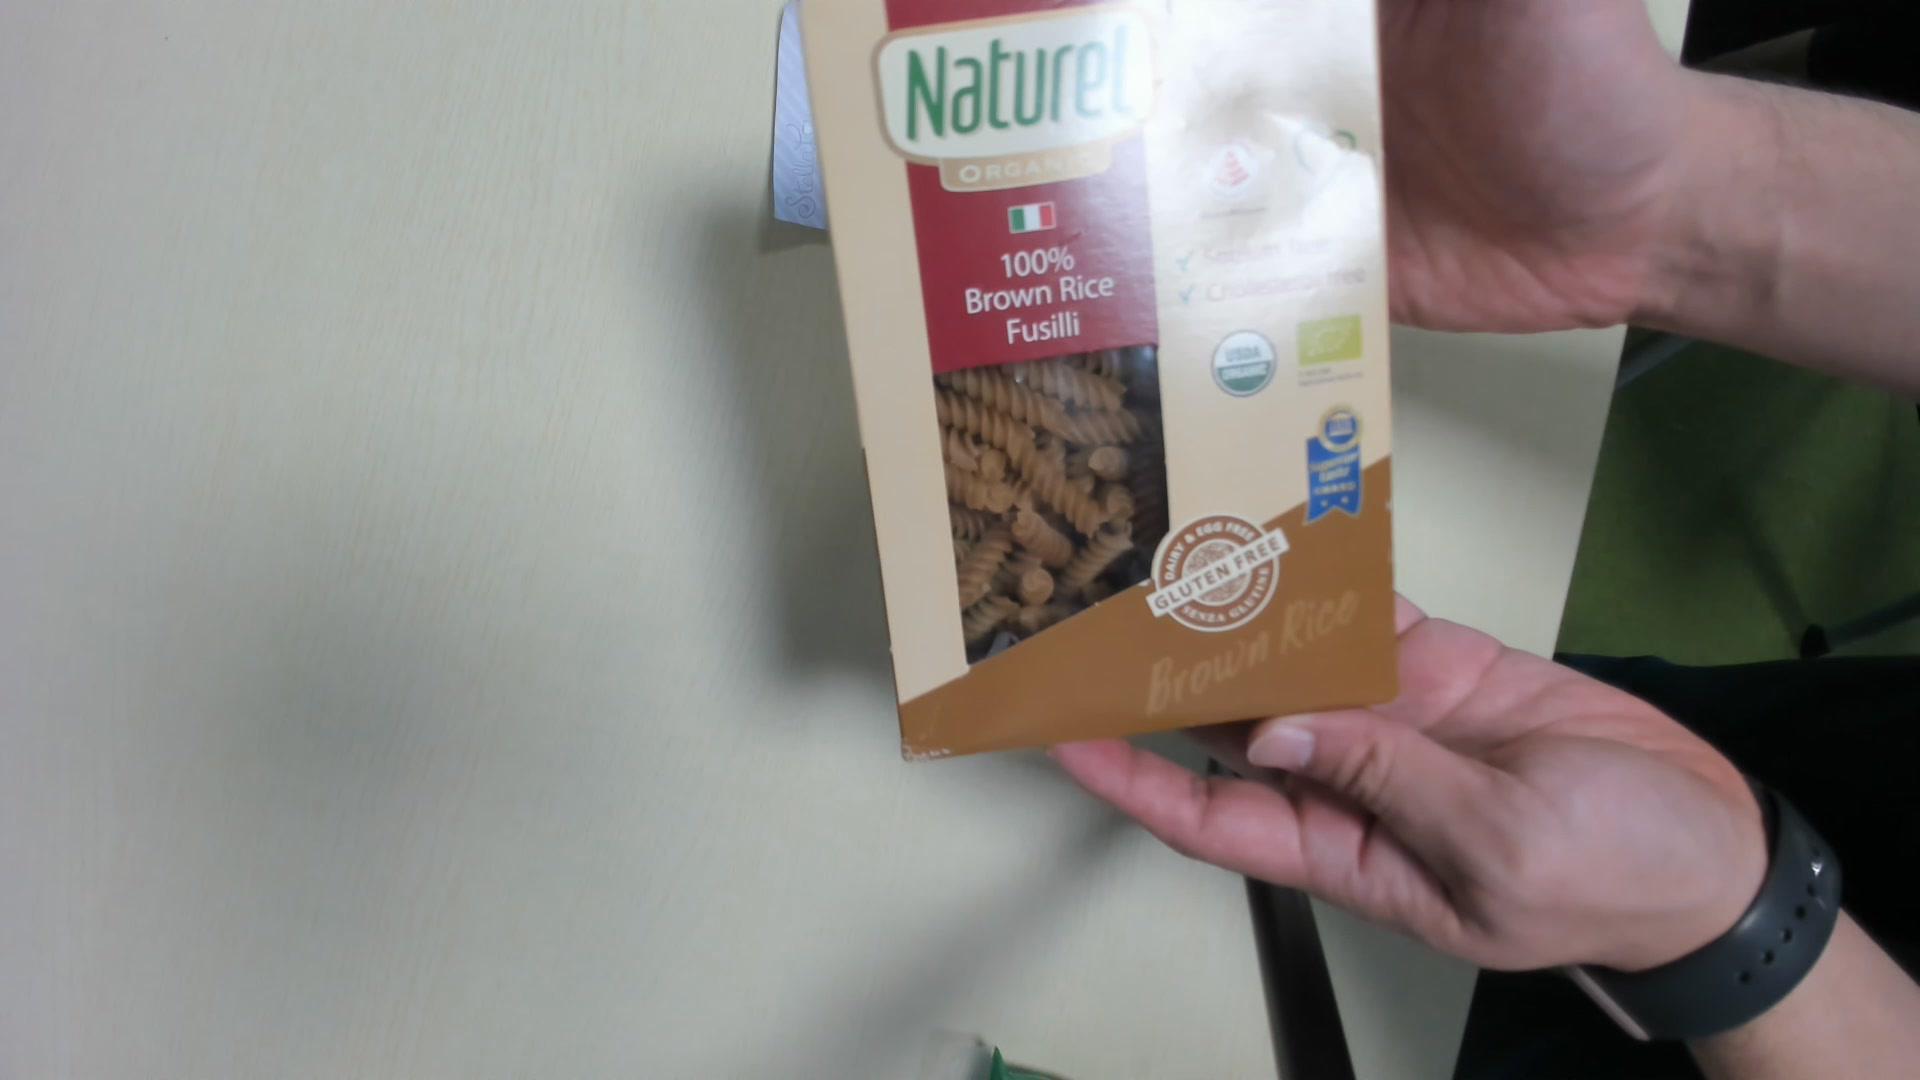Pasta_200-299g_Halal_Healthy: (795, 7, 1396, 746)
